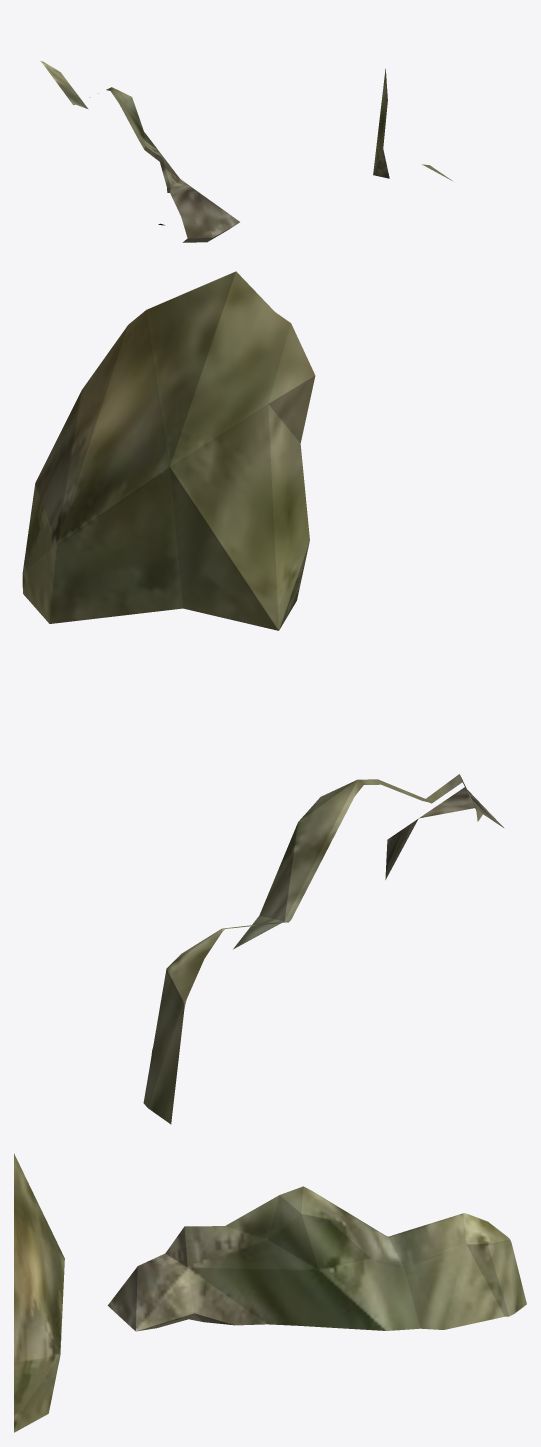
The picture shows the model from 3 angles, top to bottom: view 1: azimuth 30°, elevation 25°; view 2: azimuth 150°, elevation 25°; view 3: azimuth 270°, elevation 25°; orthographic projection. The views are drawn at different scales.
Size of the model in its own units: 1.29 by 0.9237 by 1.67.
1 material, 1 textured.
